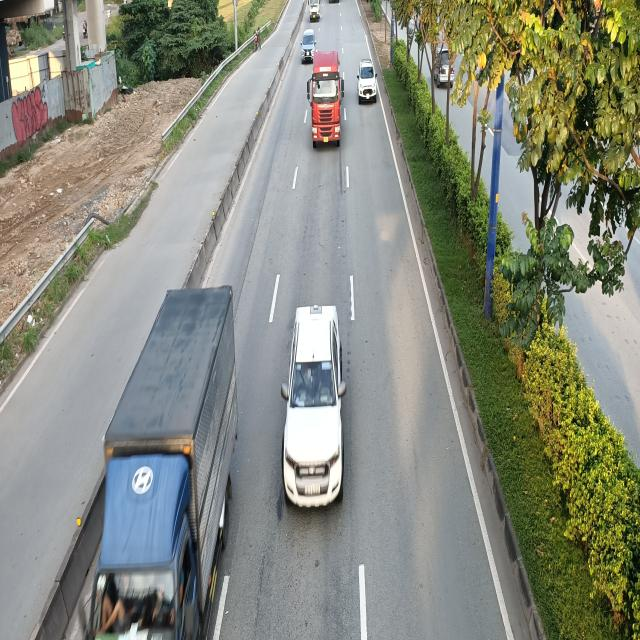car: (283, 303, 349, 509), (356, 60, 378, 102), (302, 30, 317, 63)
container: (308, 48, 344, 146)
truck: (78, 284, 241, 640)
